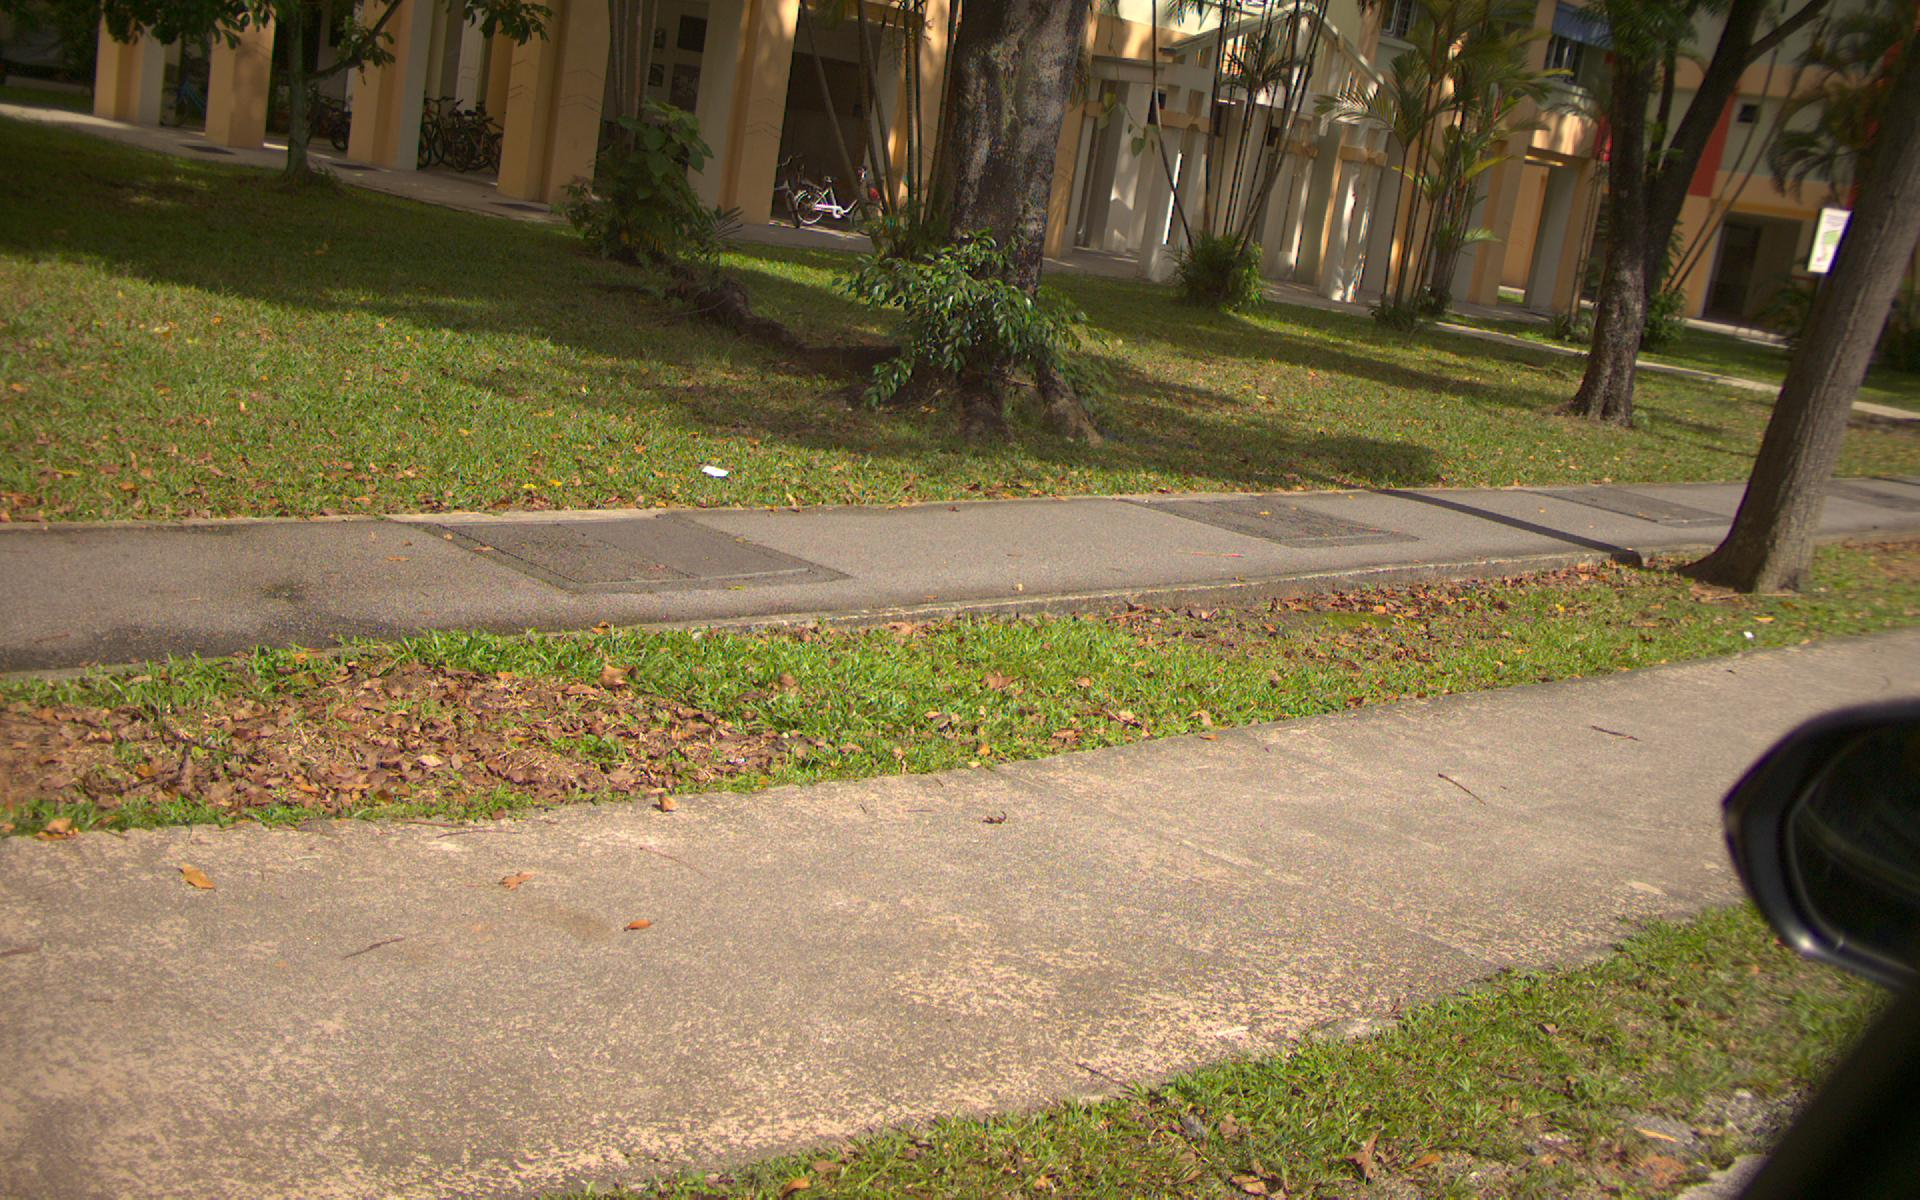pathway_low: (4, 836, 1241, 1073), (15, 538, 586, 632)
road_turf_low: (19, 317, 1914, 477)
